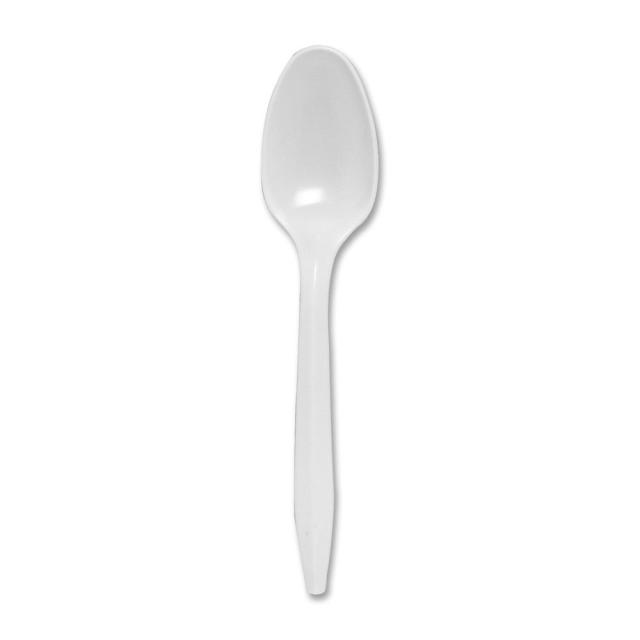spoon: (234, 29, 389, 615)
